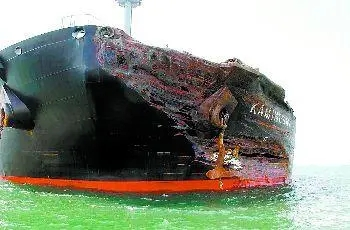Cargoship: (1, 19, 298, 192)
